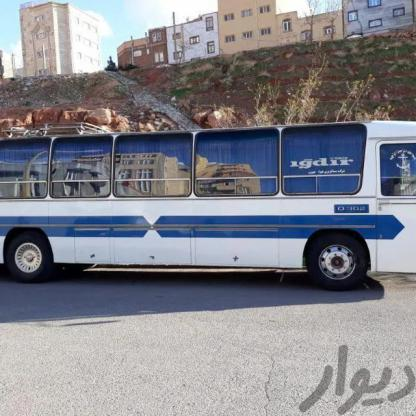Bus: (0, 115, 416, 304)
